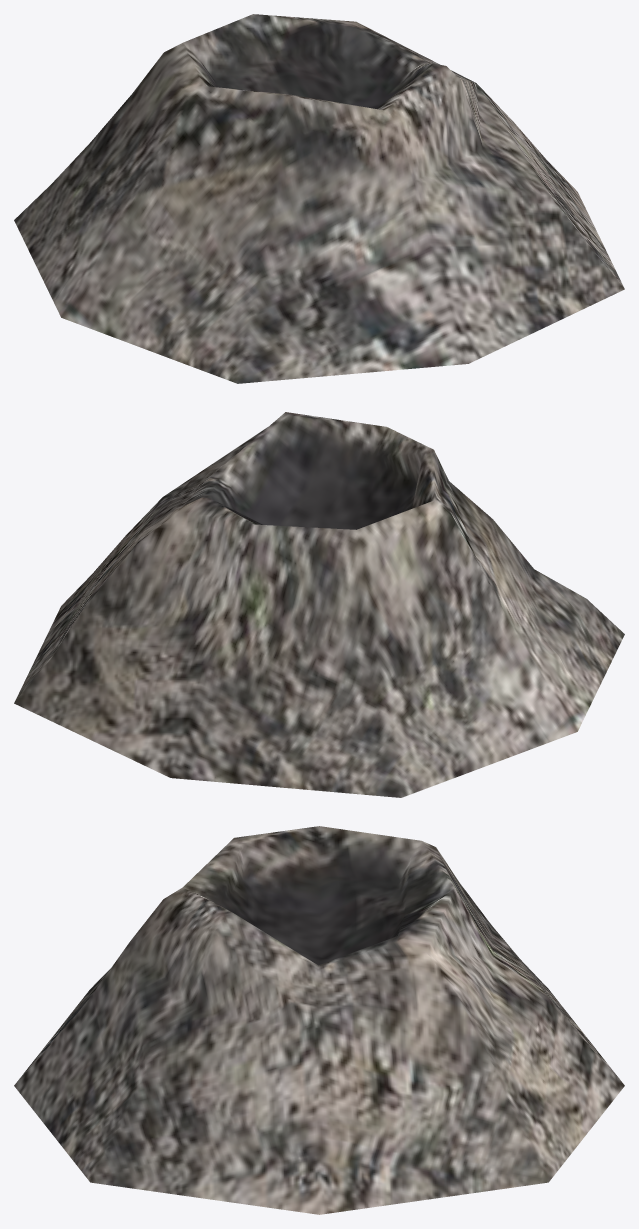
The model's file is soil_1.fbx.
3 views of the same model, one above another, from view 1: azimuth 30°, elevation 25°; view 2: azimuth 150°, elevation 25°; view 3: azimuth 270°, elevation 25° (orthographic). The views are drawn at different scales.
Parts seen in each view (by area): view 1: Plane_002; view 2: Plane_002; view 3: Plane_002.
Boxes of the visible parts, x1,y1,x2,y2 form: Plane_002: (14, 14, 624, 383); Plane_002: (14, 412, 624, 797); Plane_002: (14, 826, 624, 1214).
Bounding box in the file's own units: 62.1 × 23.73 × 62.1.
